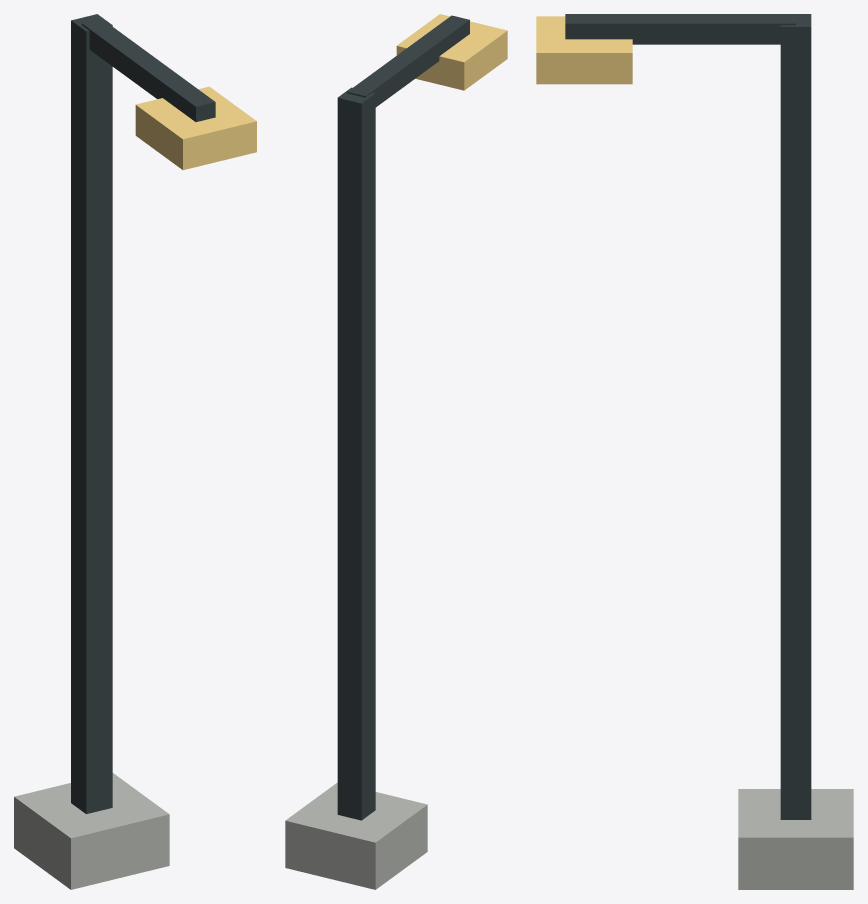
File: MIL_LightPole.fbx
3 views of the same model, side by side, from view 1: azimuth 30°, elevation 25°; view 2: azimuth 150°, elevation 25°; view 3: azimuth 270°, elevation 25° (orthographic). The views are drawn at different scales.
Parts seen in each view (by area): view 1: MIL_LightPole_Gunmetal, Foot.002, Lamp; view 2: MIL_LightPole_Gunmetal, Foot.002, Lamp; view 3: MIL_LightPole_Gunmetal, Foot.002, Lamp.
Part boxes in pixels (bbox=[...]): MIL_LightPole_Gunmetal: bbox=[71, 14, 215, 814]; Foot.002: bbox=[14, 773, 169, 889]; Lamp: bbox=[135, 86, 256, 170]; MIL_LightPole_Gunmetal: bbox=[337, 15, 469, 820]; Foot.002: bbox=[285, 782, 427, 889]; Lamp: bbox=[396, 14, 507, 90]; MIL_LightPole_Gunmetal: bbox=[565, 14, 811, 819]; Foot.002: bbox=[738, 789, 853, 889]; Lamp: bbox=[536, 16, 632, 84].
Size of the model in its own units: 60 by 486 by 165.
